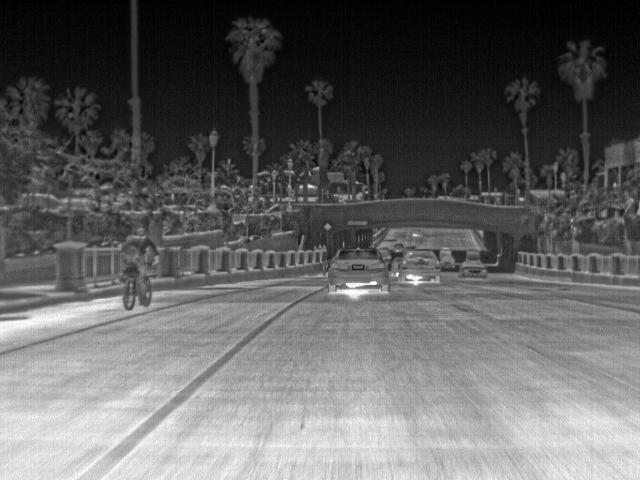car: (326, 248, 391, 297), (398, 250, 440, 282), (456, 259, 487, 279), (437, 260, 456, 272), (464, 248, 481, 260)
person: (116, 226, 161, 298)
